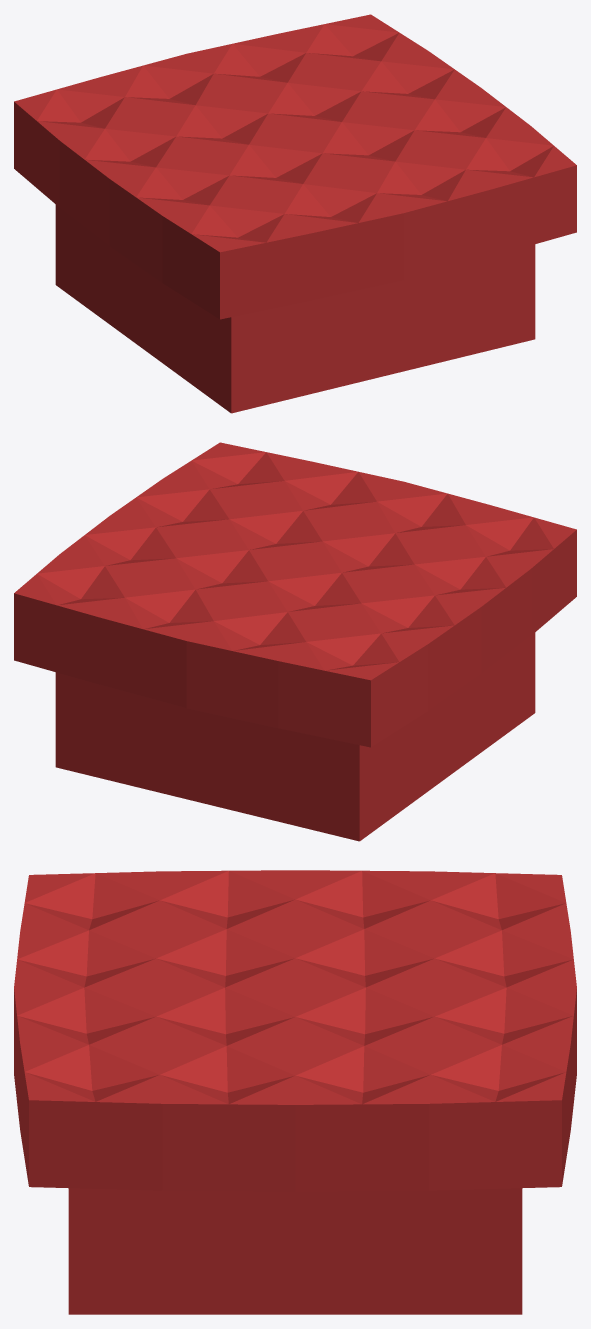
File: Ottoman_4.fbx
3 views of the same model, one above another, from view 1: azimuth 30°, elevation 25°; view 2: azimuth 150°, elevation 25°; view 3: azimuth 270°, elevation 25° (orthographic). The views are drawn at different scales.
Parts seen in each view (by area): view 1: Ottoman_4; view 2: Ottoman_4; view 3: Ottoman_4.
Part boxes in pixels (x1,y1,x2,y2): Ottoman_4: (14,14,576,413); Ottoman_4: (14,442,576,841); Ottoman_4: (14,870,576,1314).
Size of the model in its own units: 144 by 146 by 66.24.
